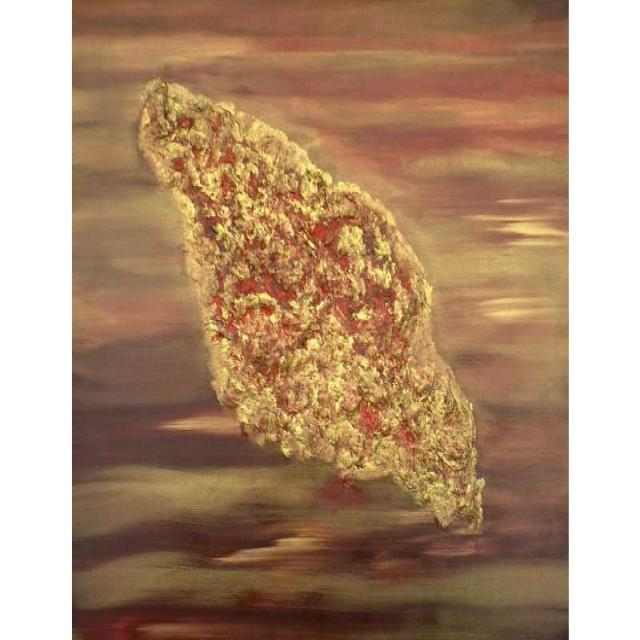Amoeba: (137, 75, 486, 534)
